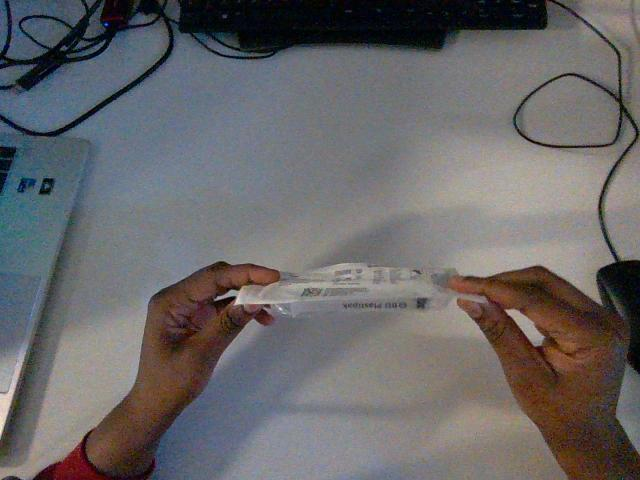syringe: (235, 263, 486, 316)
